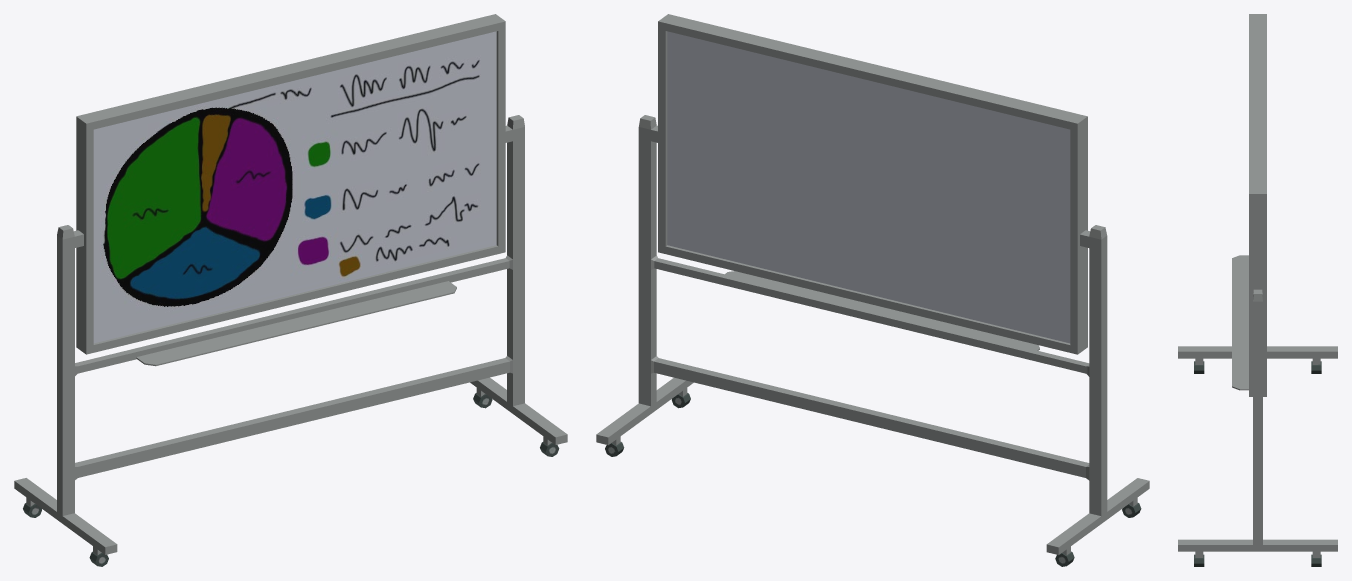
File: whiteboard_graph.glb
The picture shows the model from 3 angles, left to right: view 1: azimuth 30°, elevation 25°; view 2: azimuth 150°, elevation 25°; view 3: azimuth 270°, elevation 25°; orthographic projection. The views are drawn at different scales.
Parts seen in each view (by area): view 1: whiteboard_low; view 2: whiteboard_low; view 3: whiteboard_low.
Boxes of the visible parts, bbox=[...] form: whiteboard_low: bbox=[14, 14, 567, 554]; whiteboard_low: bbox=[596, 14, 1149, 554]; whiteboard_low: bbox=[1178, 14, 1337, 551].
Bounding box in the file's own units: 1.17 × 1.01 × 0.3986.
Materials: 1 (1 with a texture image).
